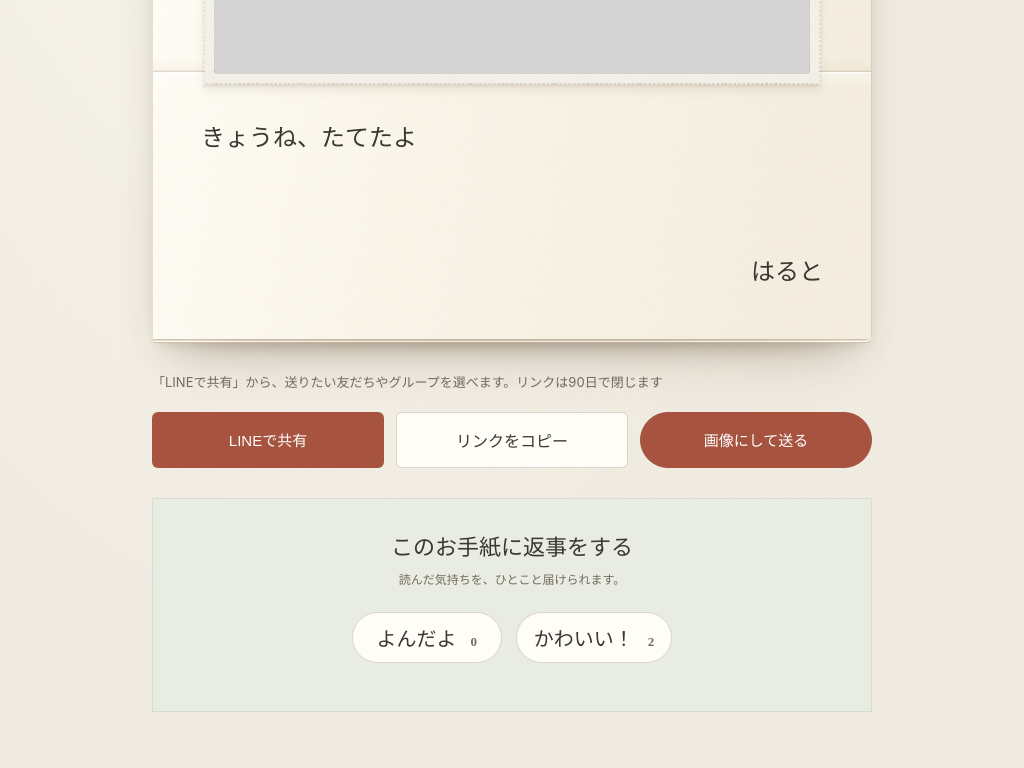
LetterPage › shows a selectable URL when copying fails
The width and height of the screenshot is (1024, 768).
(page scrolled)
Click the button "リンクをコピー". click: x=512, y=440
box: [396,412,628,468]
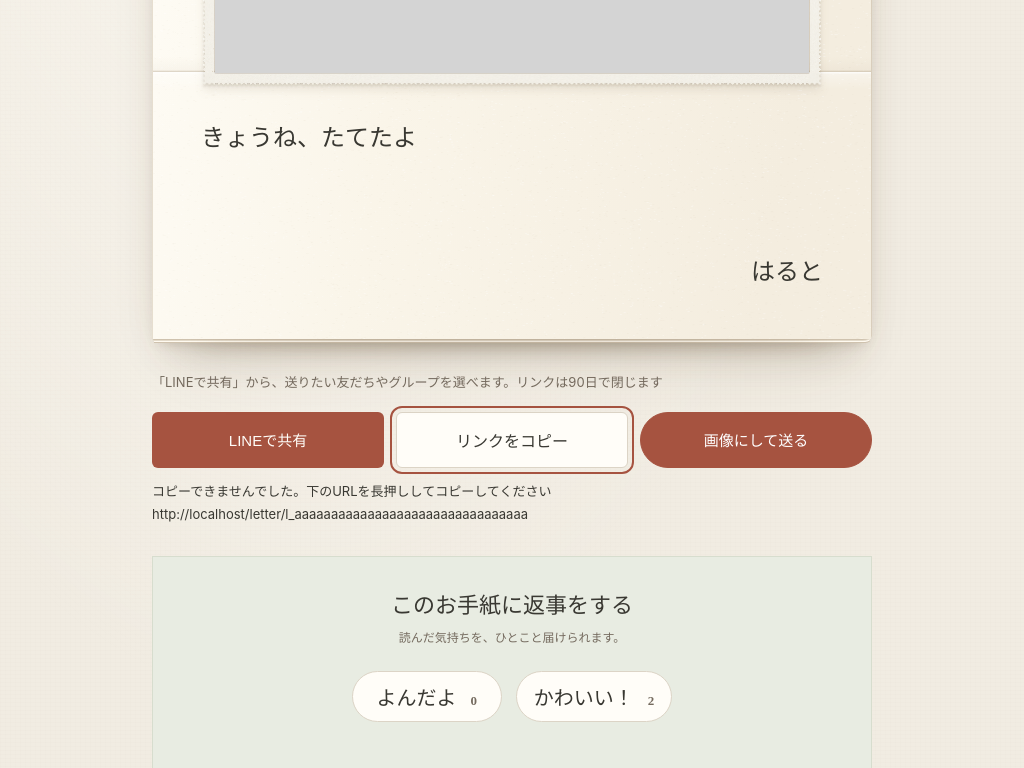
Result: the text "コピーできませんでした。下のURLを長押ししてコピーしてください" is shown at [152,483,551,499]
